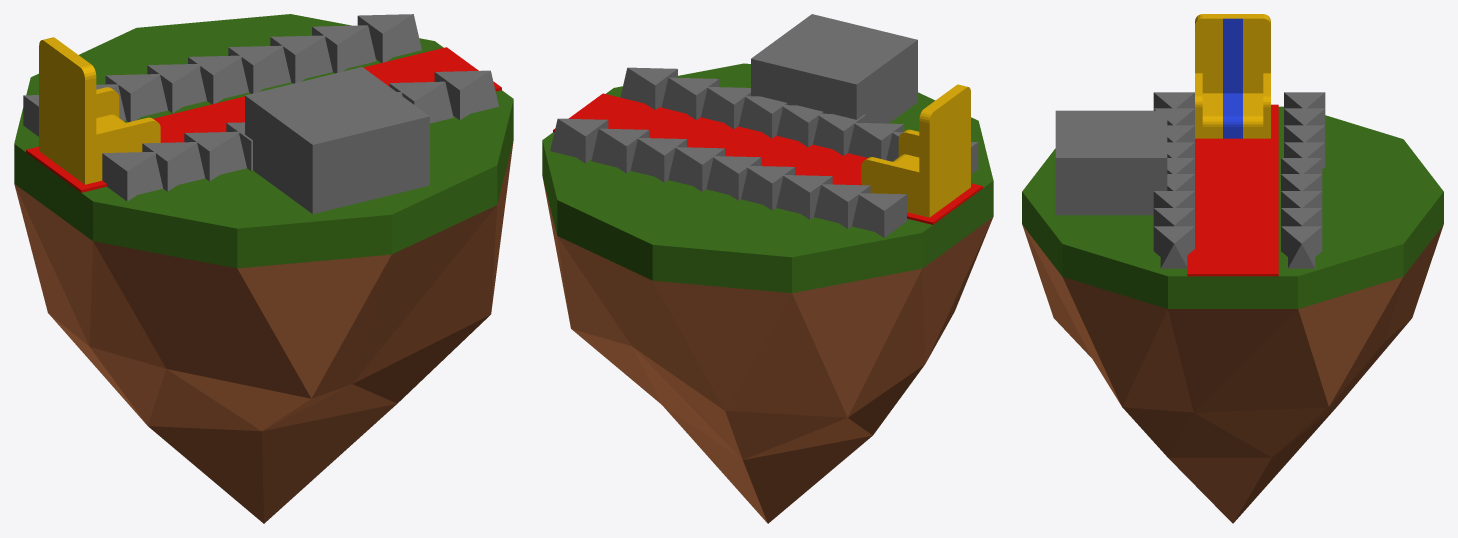
The model's file is template.glb.
3 renders of one model, left to right at view 1: azimuth 30°, elevation 25°; view 2: azimuth 150°, elevation 25°; view 3: azimuth 270°, elevation 25°, orthographic. The views are drawn at different scales.
Visible parts, largest first — view 1: Icosphere, Icosphere002, rock001, Icosphere001, rock011, rock006, rock005, rock004, rock013, rock002, rock012, rock003 (+5 smaller); view 2: Icosphere, Icosphere002, Icosphere001, rock001, rock018, rock005, rock004, rock006, rock017, rock016, rock002, rock003 (+8 smaller); view 3: Icosphere, Icosphere002, Icosphere001, rock001, rock005, rock006, rock004, rock007, rock016, rock017, rock015, rock003 (+7 smaller).
Part boxes in pixels (bbox=[...]): Icosphere: bbox=[14, 140, 513, 523]; Icosphere002: bbox=[14, 14, 513, 268]; rock001: bbox=[245, 67, 429, 213]; Icosphere001: bbox=[26, 37, 501, 192]; rock011: bbox=[102, 151, 162, 201]; rock006: bbox=[434, 70, 498, 120]; rock005: bbox=[357, 14, 421, 62]; rock004: bbox=[312, 25, 376, 73]; rock013: bbox=[184, 131, 246, 181]; rock002: bbox=[228, 45, 290, 93]; rock012: bbox=[142, 142, 204, 191]; rock003: bbox=[270, 35, 332, 83]; Icosphere: bbox=[543, 179, 993, 523]; Icosphere002: bbox=[542, 63, 993, 293]; Icosphere001: bbox=[553, 84, 982, 224]; rock001: bbox=[751, 14, 917, 123]; rock018: bbox=[852, 193, 906, 237]; rock005: bbox=[550, 118, 608, 163]; rock004: bbox=[591, 128, 649, 173]; rock006: bbox=[620, 67, 677, 109]; rock017: bbox=[814, 184, 870, 228]; rock016: bbox=[776, 175, 832, 219]; rock002: bbox=[668, 147, 724, 191]; rock003: bbox=[630, 137, 686, 182]; Icosphere: bbox=[1022, 225, 1443, 523]; Icosphere002: bbox=[1022, 106, 1443, 308]; Icosphere001: bbox=[1187, 14, 1278, 276]; rock001: bbox=[1055, 110, 1167, 215]; rock005: bbox=[1281, 226, 1322, 268]; rock006: bbox=[1153, 226, 1194, 268]; rock004: bbox=[1281, 208, 1322, 226]; rock007: bbox=[1153, 208, 1194, 226]; rock016: bbox=[1284, 125, 1325, 142]; rock017: bbox=[1284, 108, 1325, 125]; rock015: bbox=[1284, 142, 1325, 169]; rock003: bbox=[1281, 191, 1322, 208].
Size of the model in its own units: 1.98 by 2.33 by 2.08.
